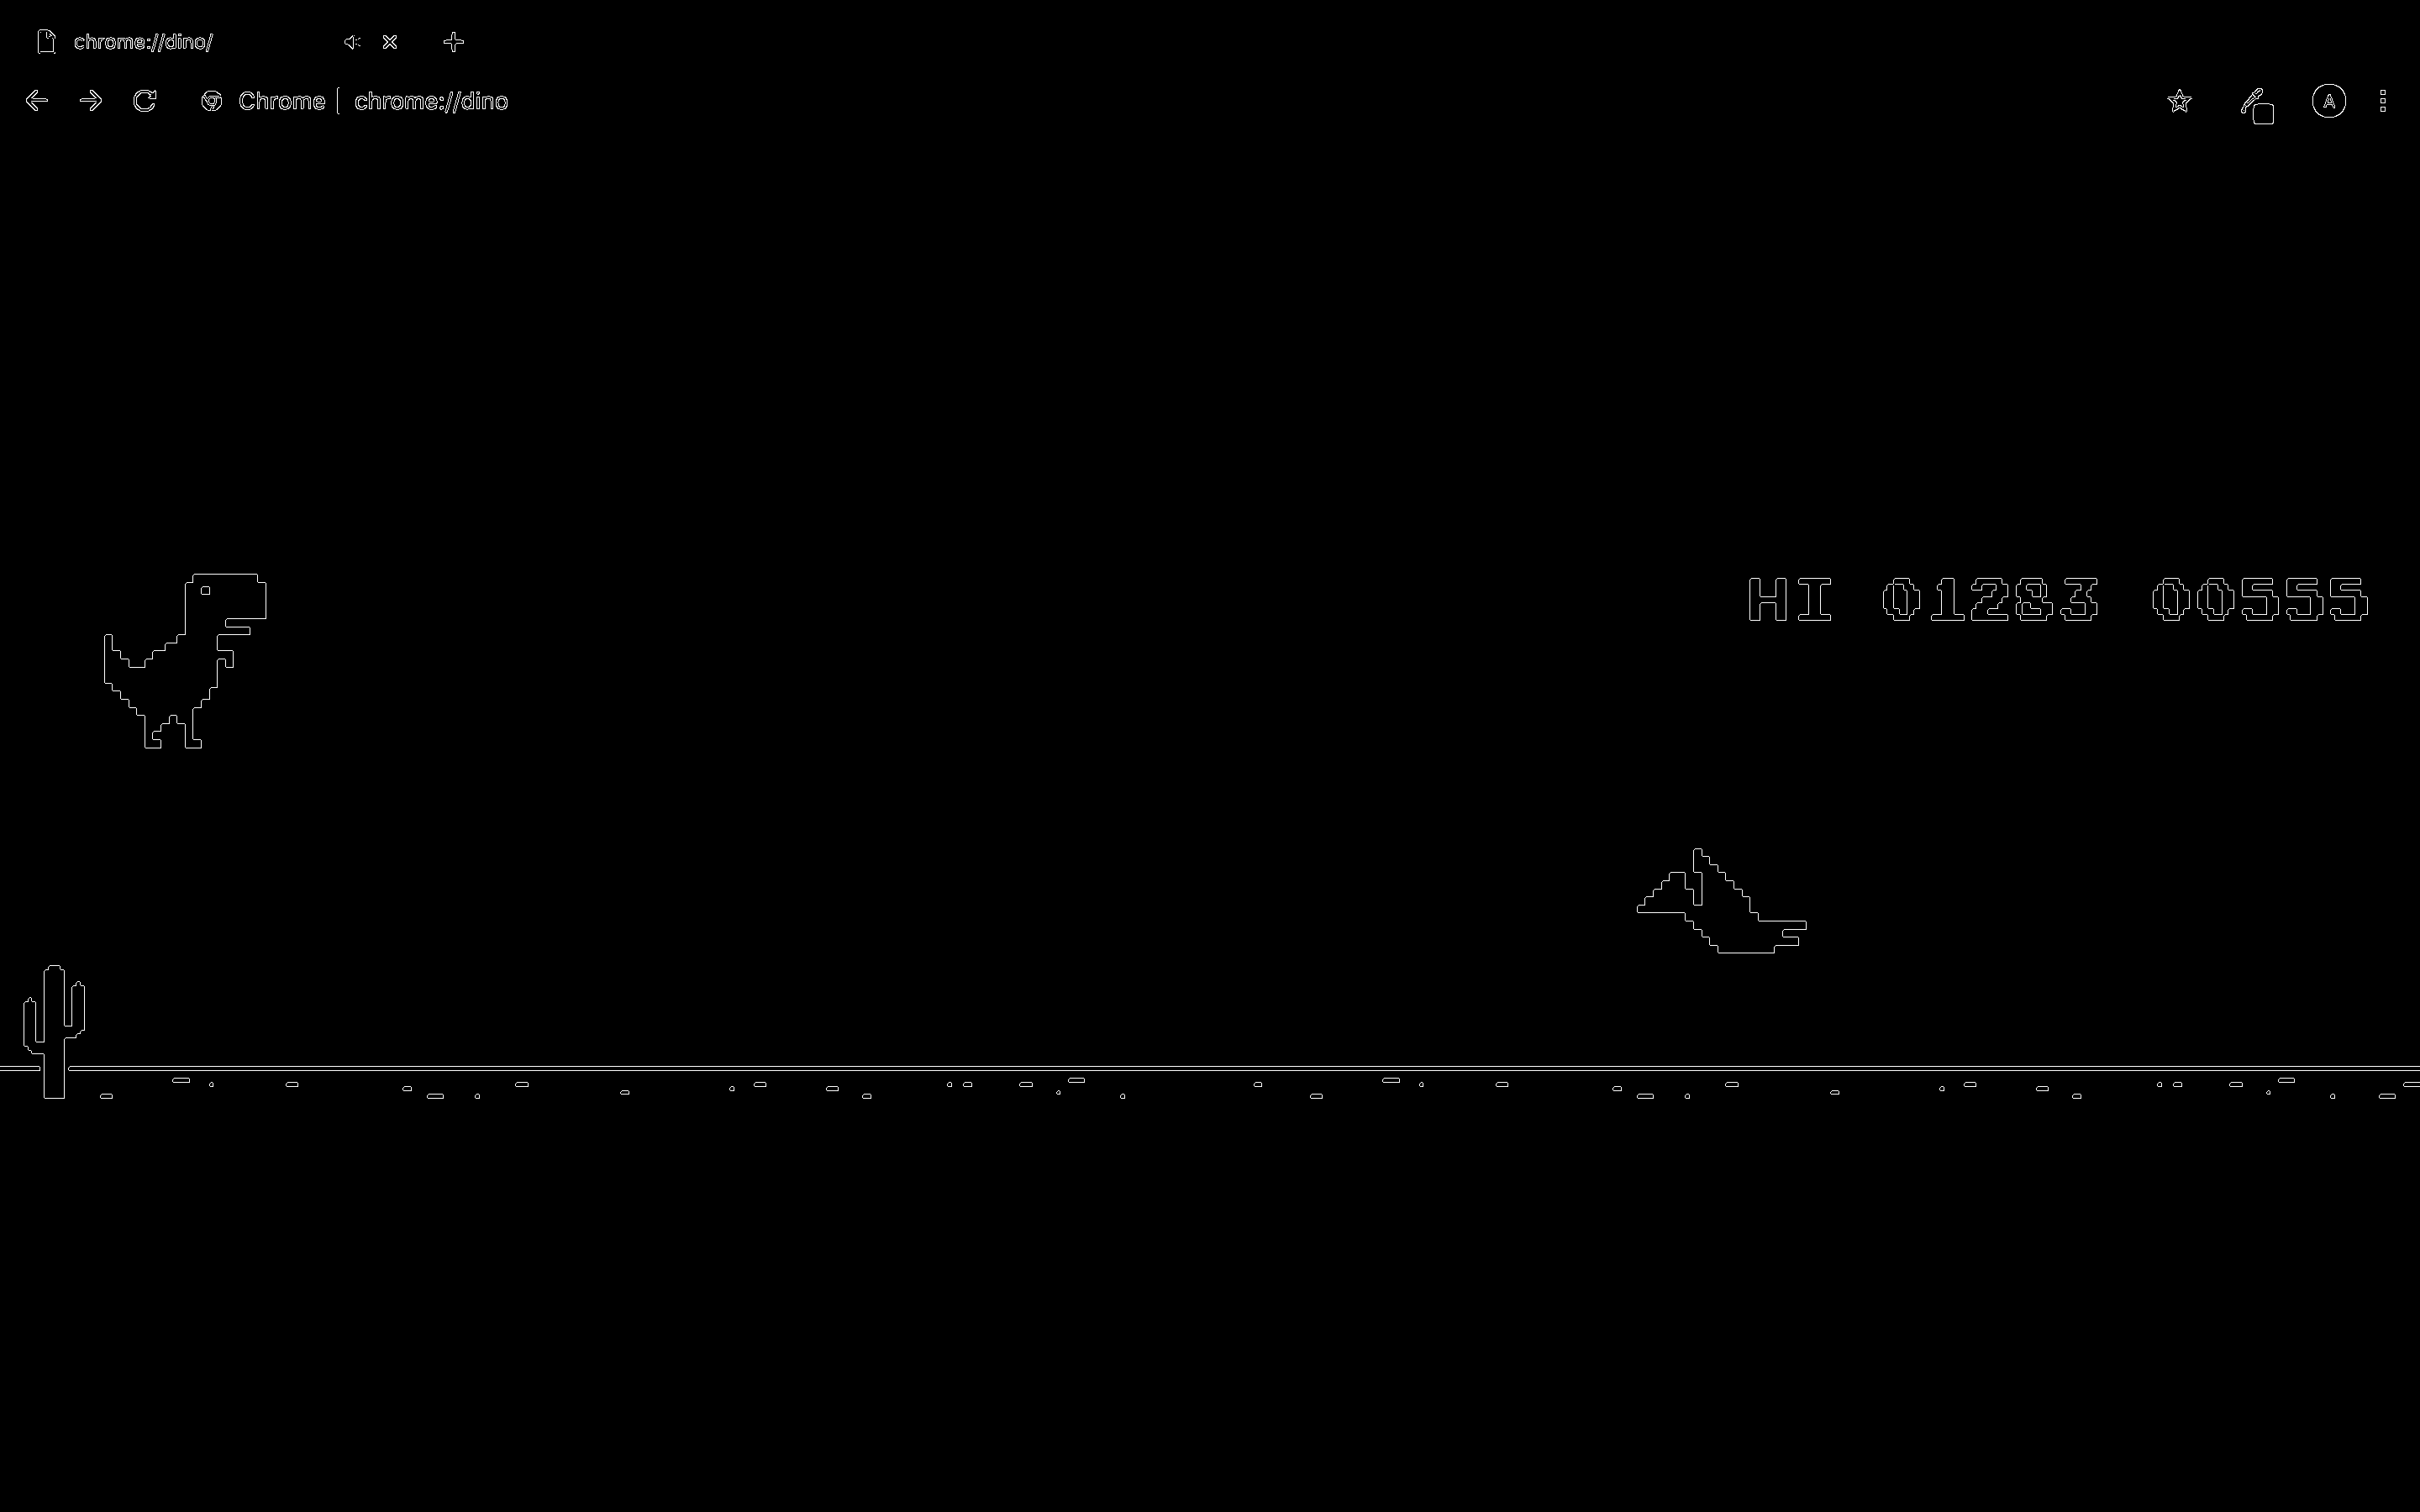Bird: (1631, 852, 1817, 967)
Cactus: (19, 965, 92, 1104)
Dino: (106, 577, 272, 753)
